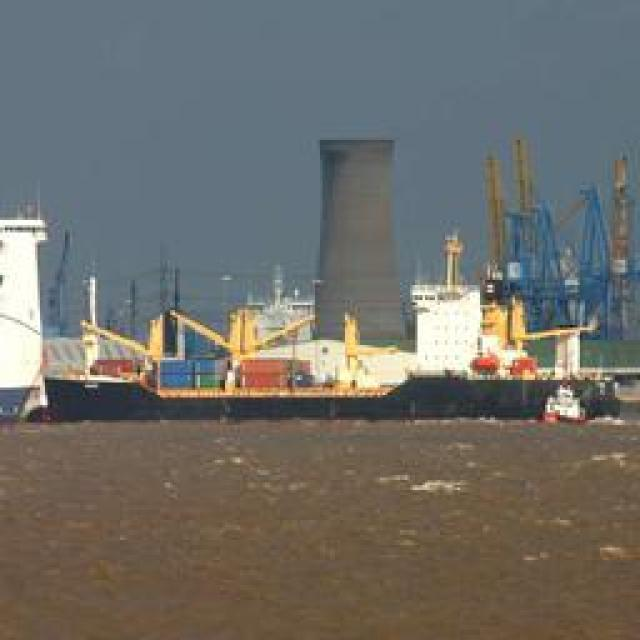CIV_Ship: (32, 308, 618, 420)
